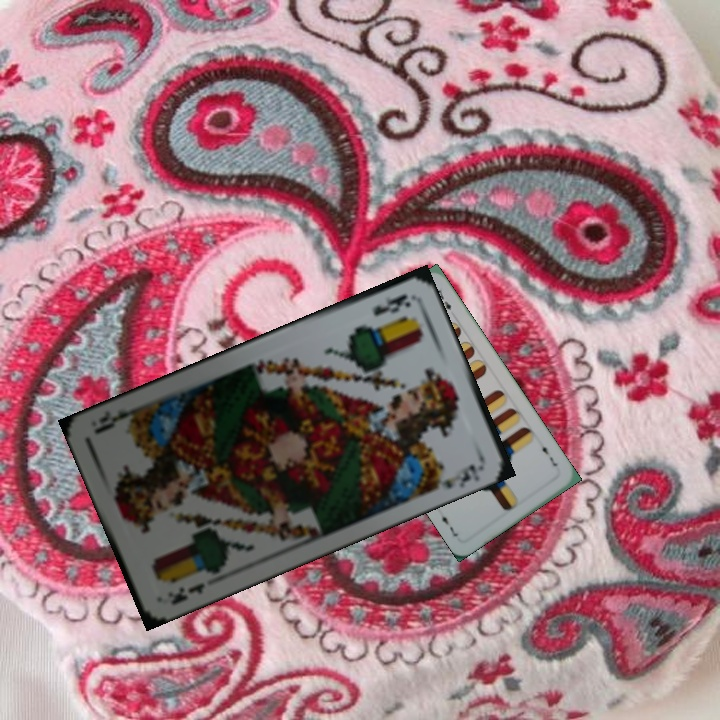E7: (537, 438, 560, 470)
EK: (369, 290, 413, 319), (167, 579, 208, 608)
